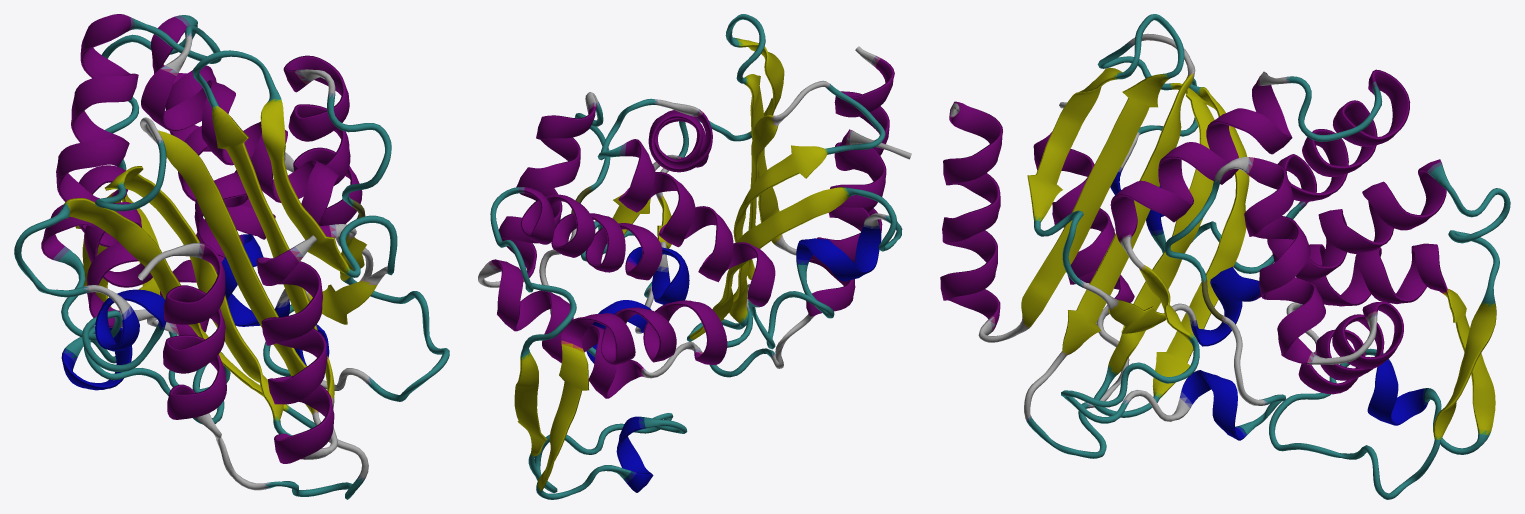
File: animate.0042.obj
3 renders of one model, left to right at view 1: azimuth 30°, elevation 25°; view 2: azimuth 150°, elevation 25°; view 3: azimuth 270°, elevation 25°, orthographic. The views are drawn at different scales.
Visible parts, largest first — view 1: vmd_mol0_rep0; view 2: vmd_mol0_rep0; view 3: vmd_mol0_rep0.
Boxes of the visible parts, box(x1,y1,x2,y2) form: vmd_mol0_rep0: box(14, 14, 449, 499); vmd_mol0_rep0: box(478, 14, 911, 499); vmd_mol0_rep0: box(940, 14, 1510, 499).
Size of the model in its own units: 0.9983 by 1.12 by 1.32.
